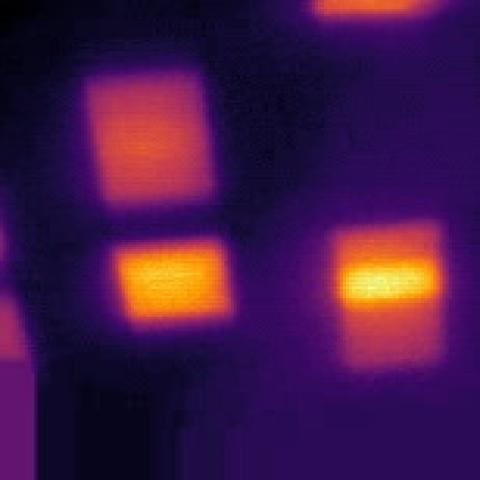fault: (312, 213, 457, 383), (78, 69, 234, 214), (102, 232, 254, 327), (301, 0, 455, 30)
